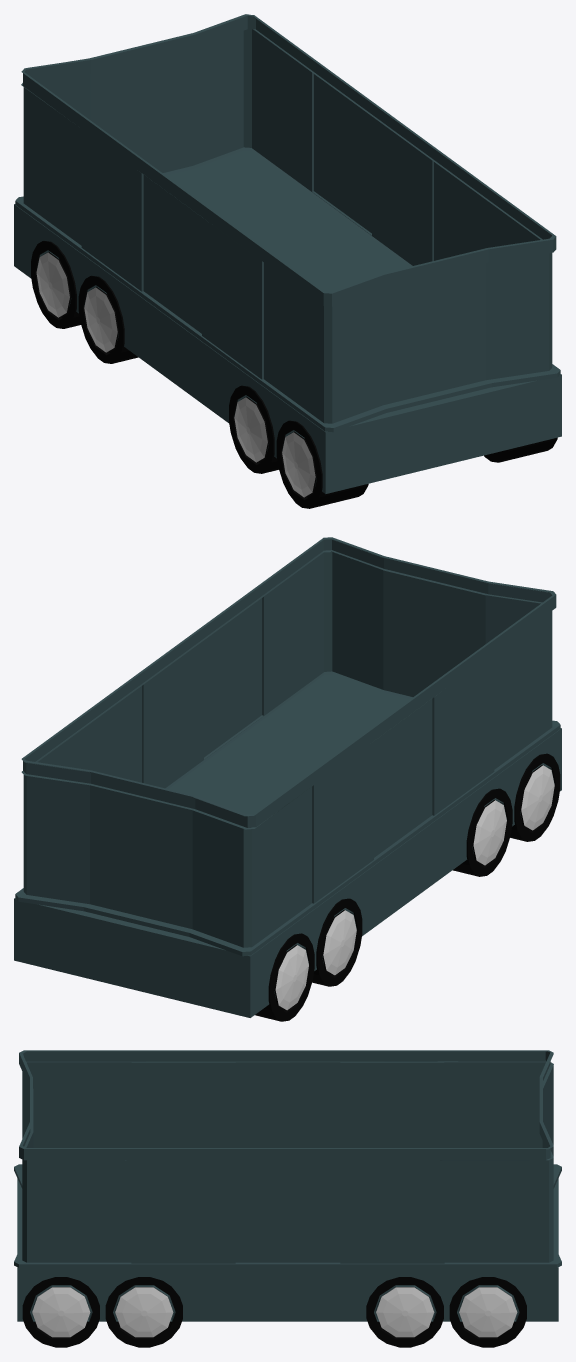
File: BackTruck_01.fbx
3 renders of one model, top to bottom at view 1: azimuth 30°, elevation 25°; view 2: azimuth 150°, elevation 25°; view 3: azimuth 270°, elevation 25°, orthographic. The views are drawn at different scales.
Parts seen in each view (by area): view 1: BackTruck_01; view 2: BackTruck_01; view 3: BackTruck_01.
Part boxes in pixels (x1,y1,x2,y2): BackTruck_01: (14, 14, 561, 508); BackTruck_01: (14, 537, 561, 1021); BackTruck_01: (14, 1050, 561, 1347).
Bounding box in the file's own units: 618 × 553 × 1386.
